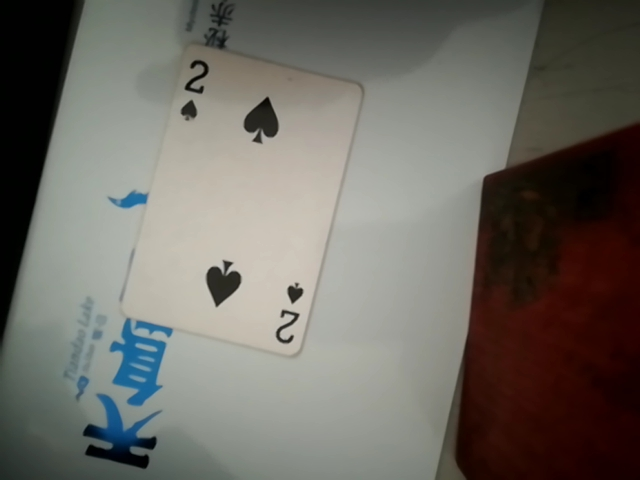ht 2: (141, 23, 353, 358)
